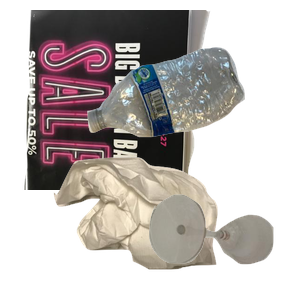glass: (147, 192, 300, 300)
paper: (22, 10, 225, 190)
plastic: (85, 45, 300, 175)
trash: (51, 155, 261, 300)
